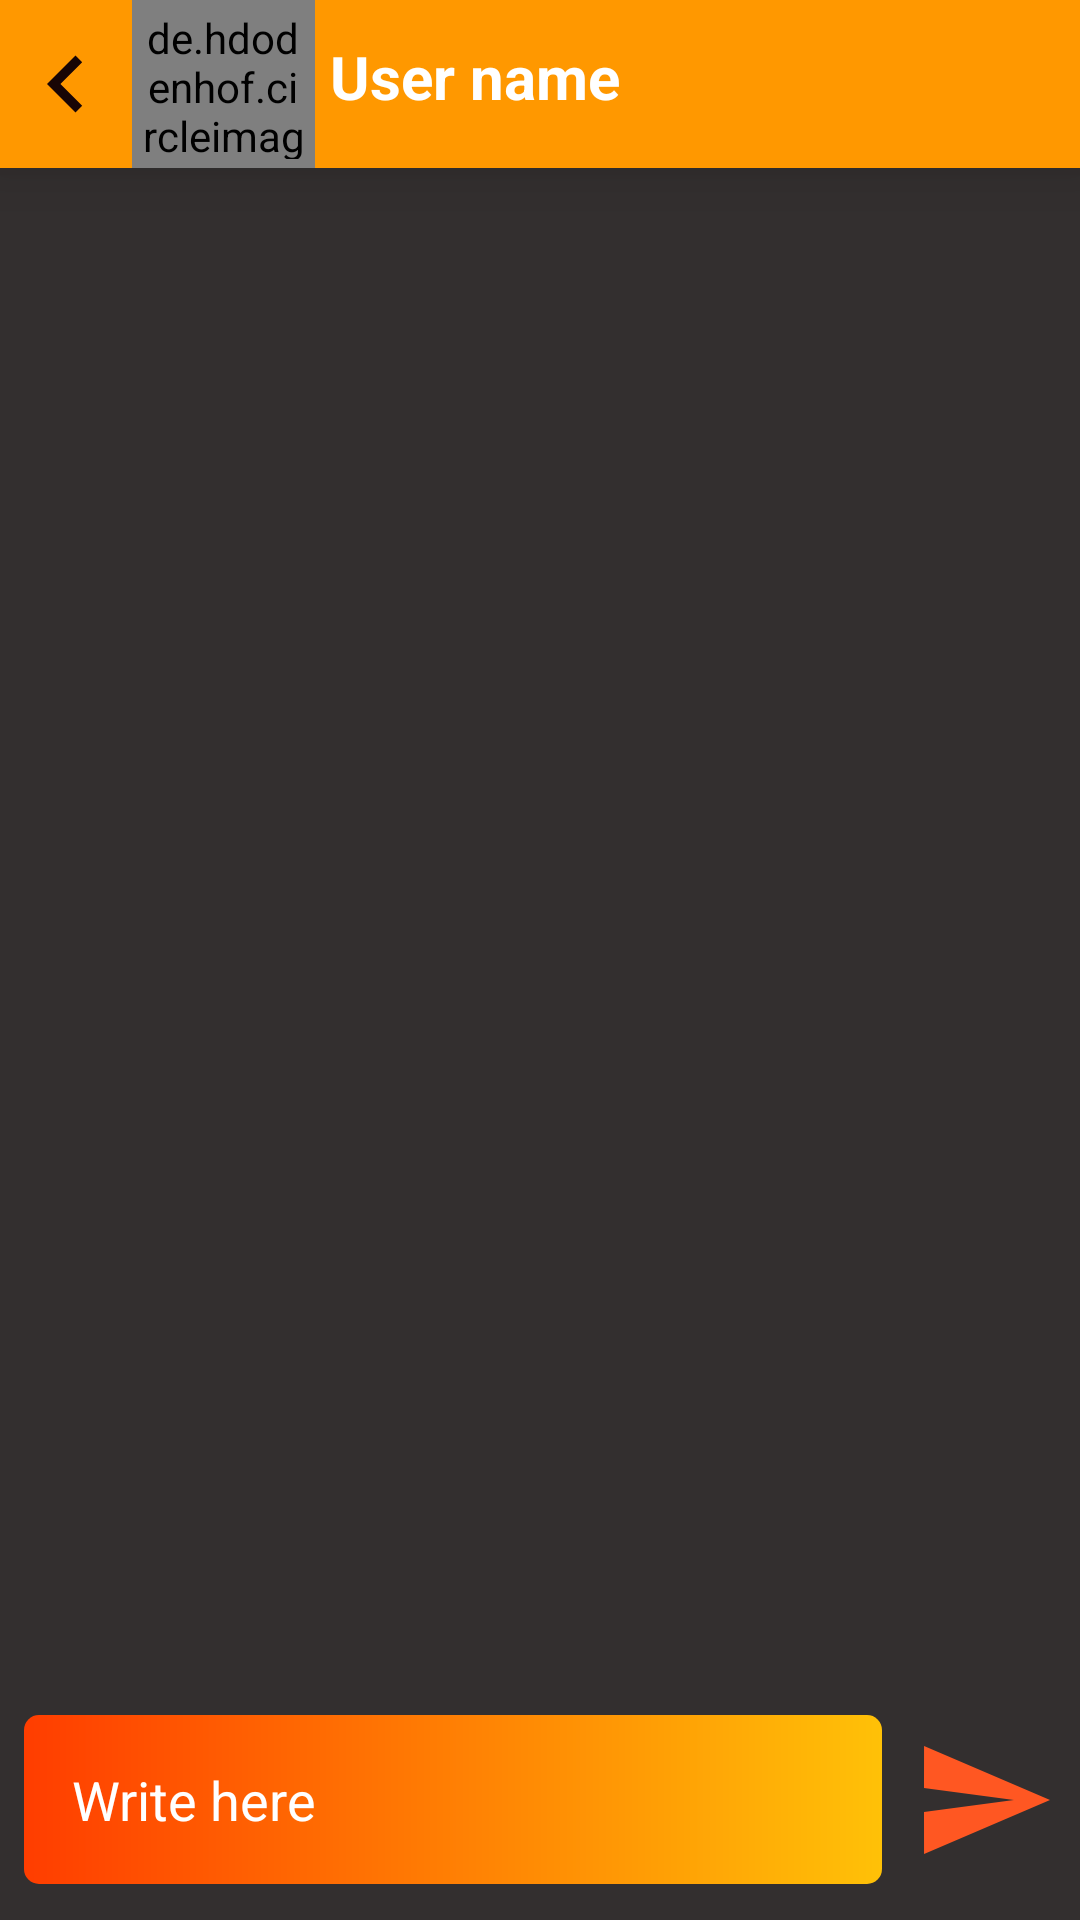

Icon click points for this 1080×1920 phone screenshot, format (x=x, y=y):
left: (x=66, y=84)
send: (x=987, y=1800)
